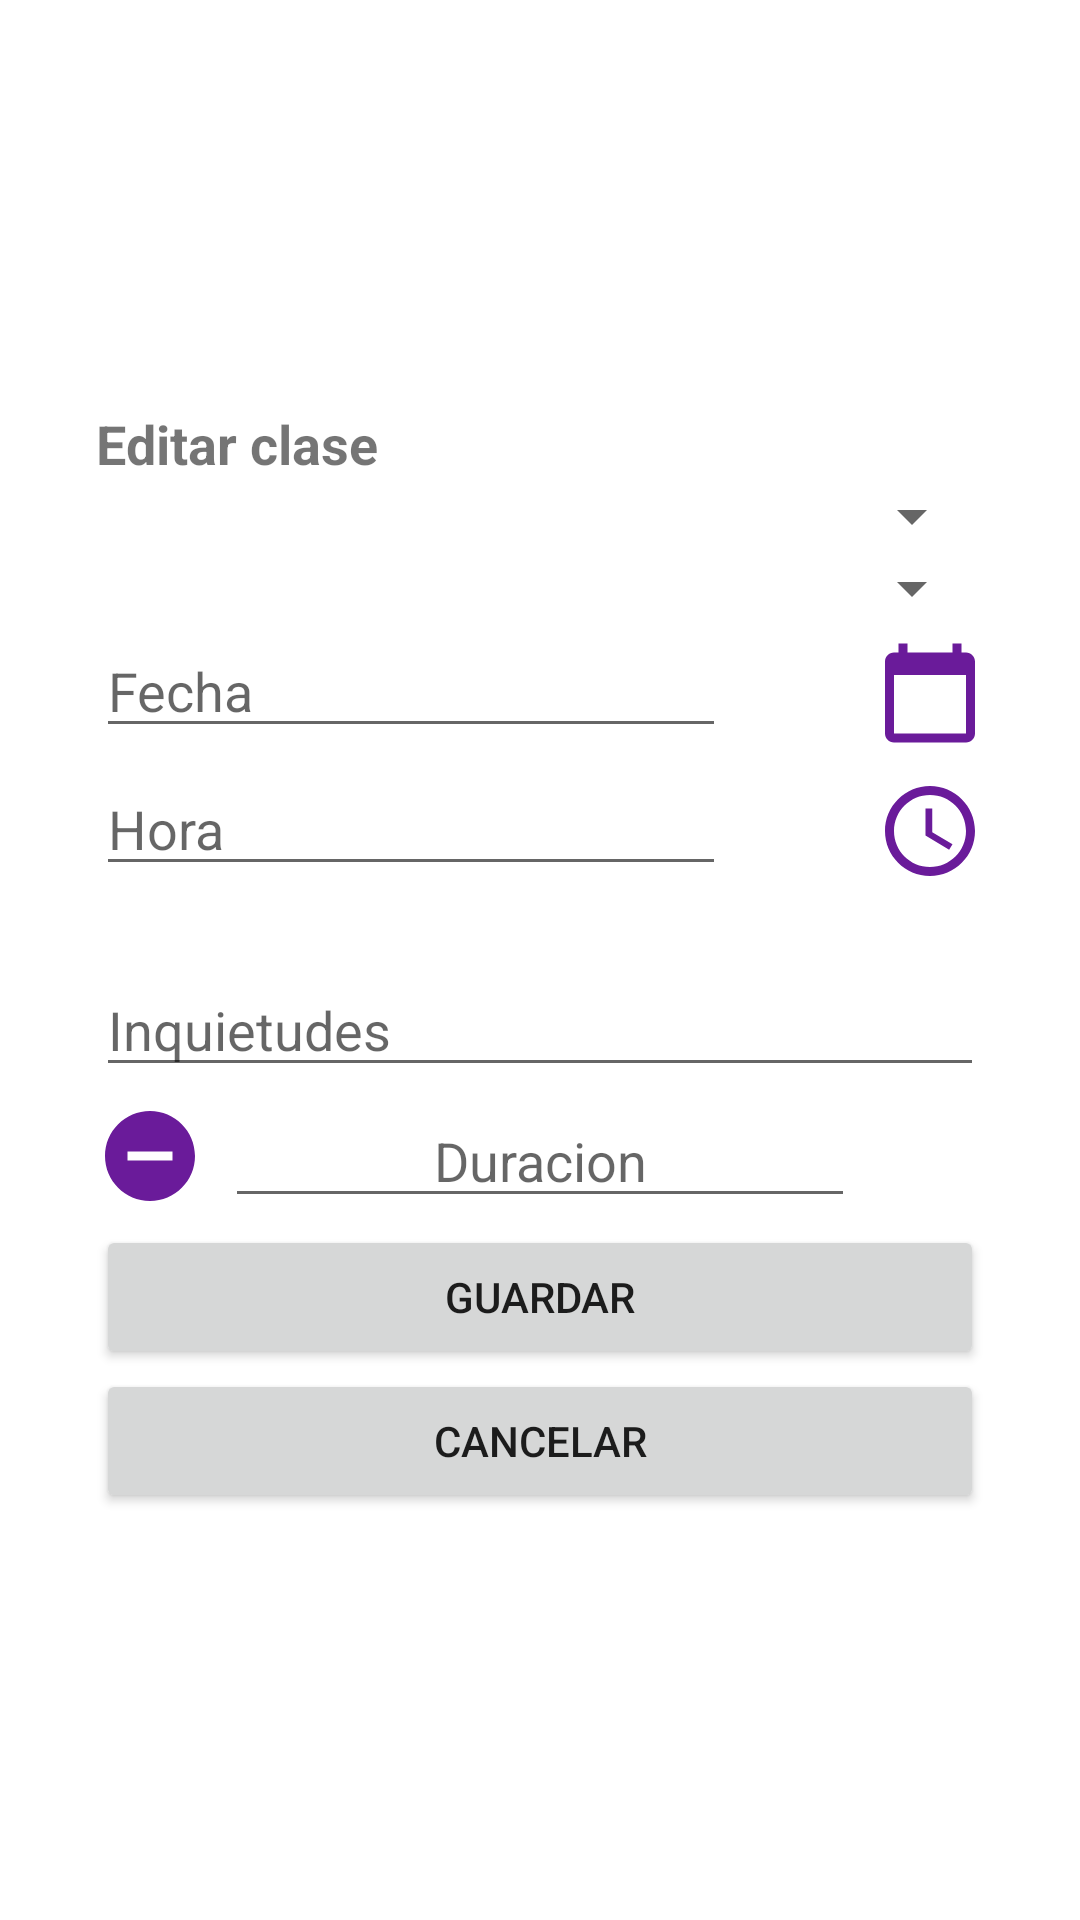

Locate icon controls on the screen. Image size 1080x1920, boxes as (x1, y1, x2, y2).
calendar today: (885, 643, 975, 743)
remove circle: (105, 1111, 195, 1201)
schedule: (885, 786, 975, 876)
